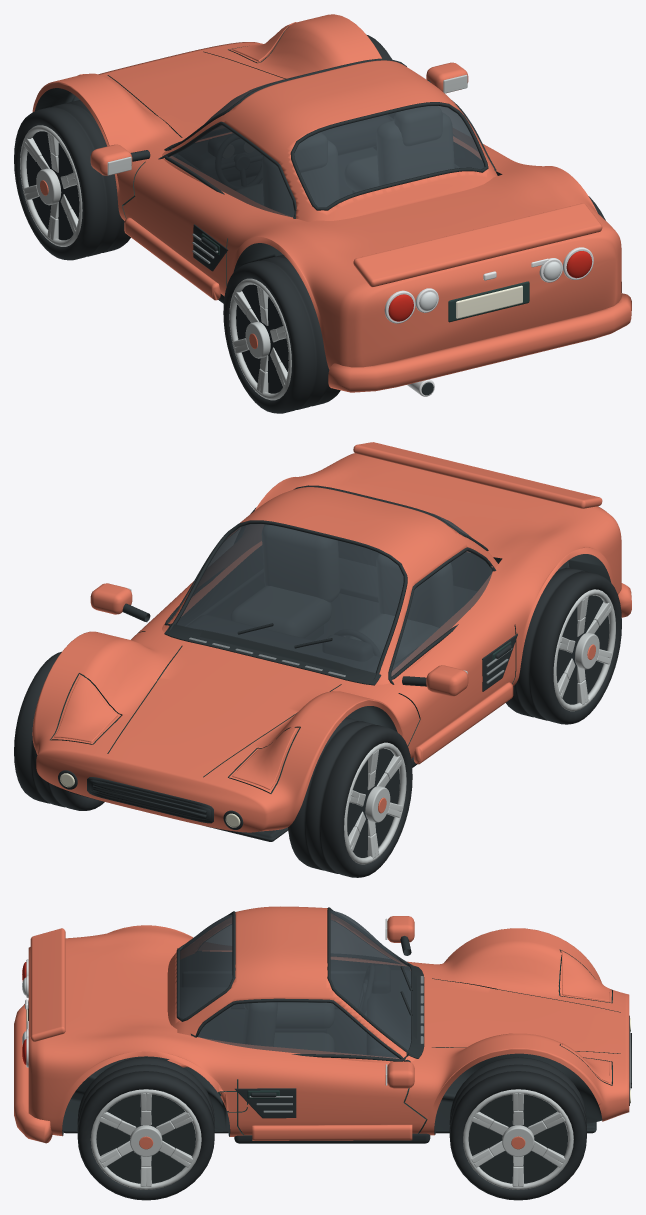
File: midori.fbx
The picture shows the model from 3 angles, top to bottom: view 1: azimuth 30°, elevation 25°; view 2: azimuth 150°, elevation 25°; view 3: azimuth 270°, elevation 25°; orthographic projection. The views are drawn at different scales.
Parts seen in each view (by area): view 1: Body, Wheel_FL_Mesh, Wheel_RL_Mesh; view 2: Body, Wheel_FL_Mesh, Wheel_RL_Mesh, Wheel_FR_Mesh; view 3: Body, Wheel_RR_Mesh, Wheel_FR_Mesh.
Boxes of the visible parts, x1,y1,x2,y2 form: Body: (32, 14, 631, 396); Wheel_FL_Mesh: (14, 100, 130, 260); Wheel_RL_Mesh: (223, 254, 340, 413); Body: (32, 442, 631, 841); Wheel_FL_Mesh: (288, 717, 412, 877); Wheel_RL_Mesh: (506, 565, 621, 724); Wheel_FR_Mesh: (14, 651, 104, 810); Body: (14, 906, 631, 1143); Wheel_RR_Mesh: (77, 1057, 214, 1200); Wheel_FR_Mesh: (449, 1057, 586, 1200).
Bounding box in the file's own units: 231 × 135 × 379.
